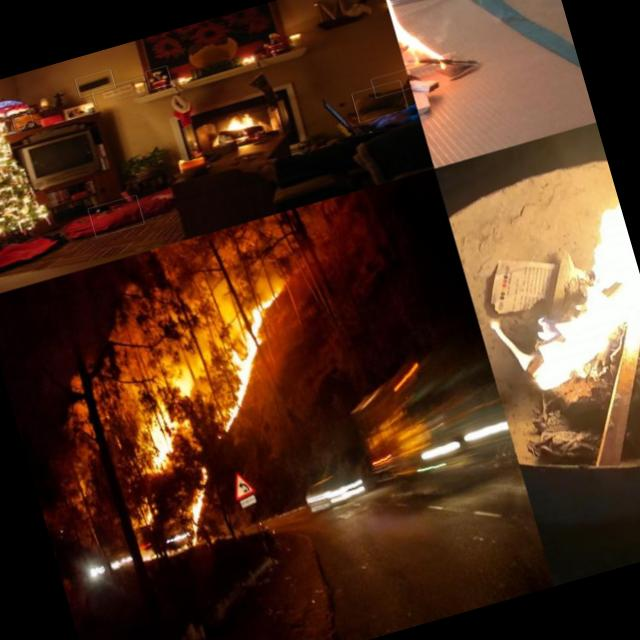fire: (464, 160, 640, 410), (182, 290, 291, 432), (110, 348, 208, 472), (377, 0, 450, 102), (171, 467, 228, 549), (214, 110, 262, 138)
